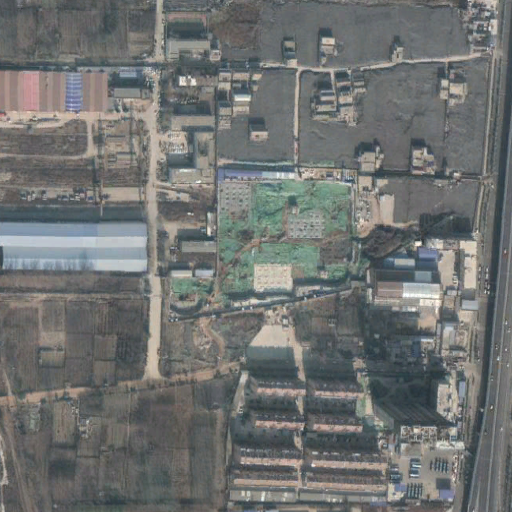cw: (171, 182, 356, 320)
